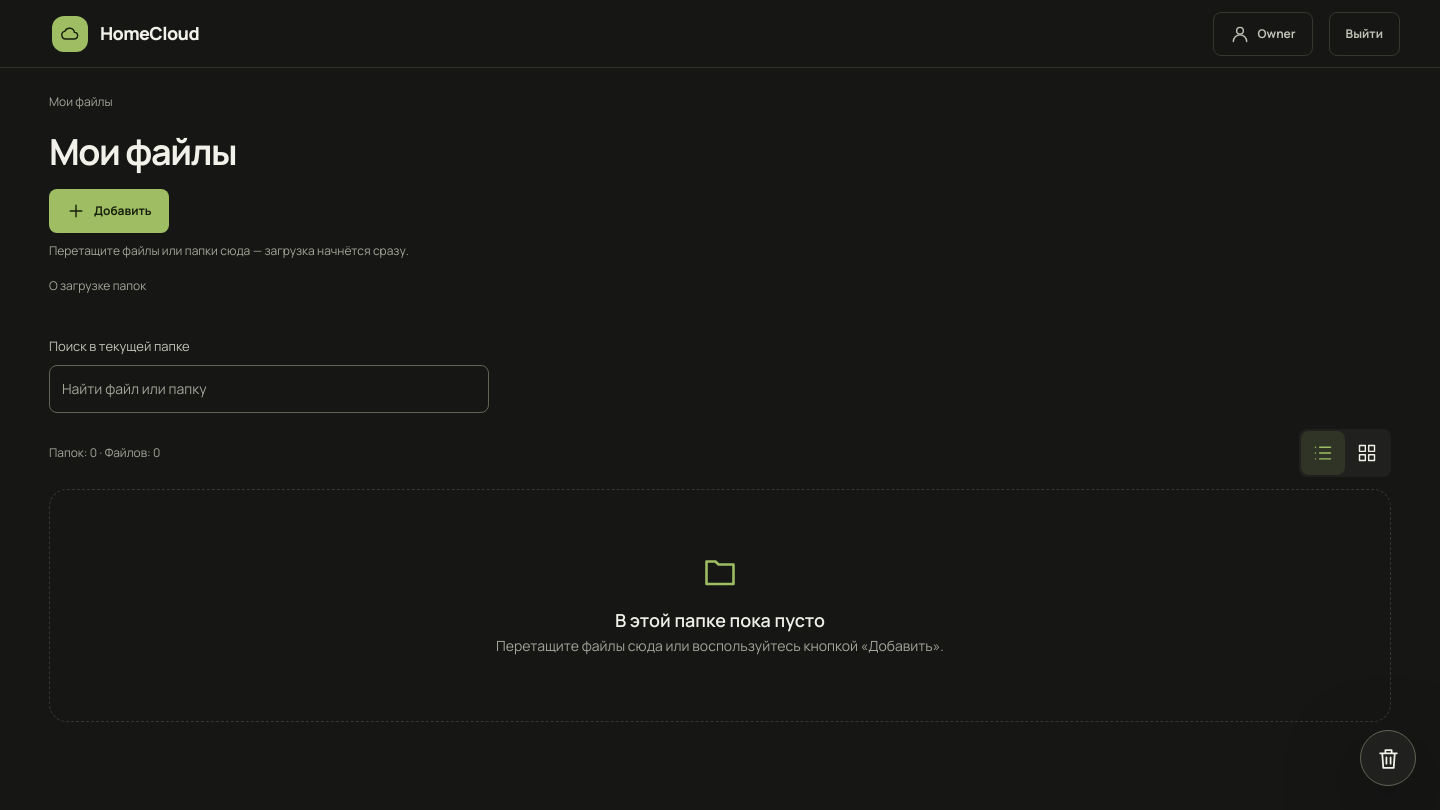
Test: authentication UX › revokes the rotated refresh session before clearing local state
The image size is (1440, 810).
Step 1. Click the button "Выйти" → (1364, 34), box [1329,12,1400,56]
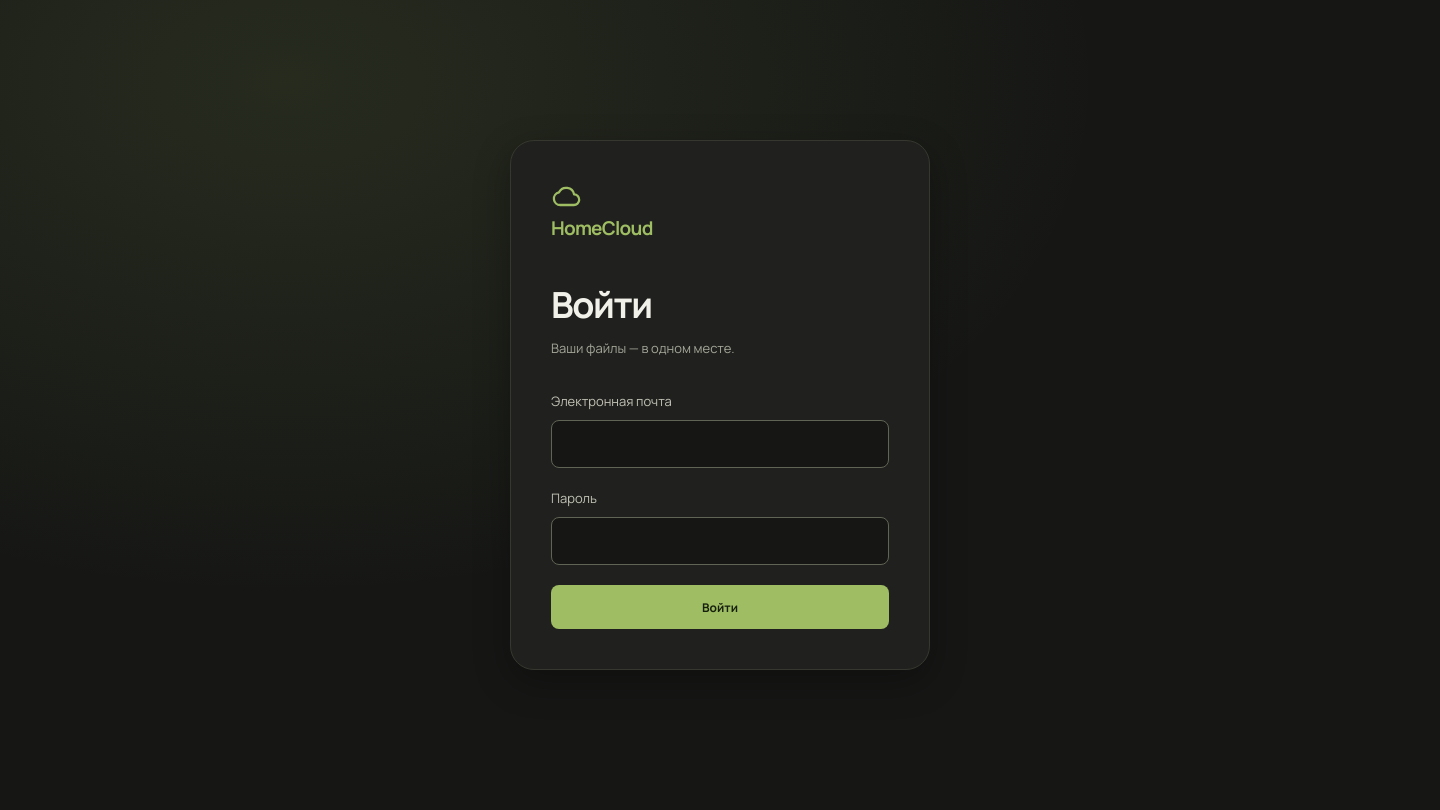
expect the heading "Войти" is shown: met, box [551,280,652,329]
